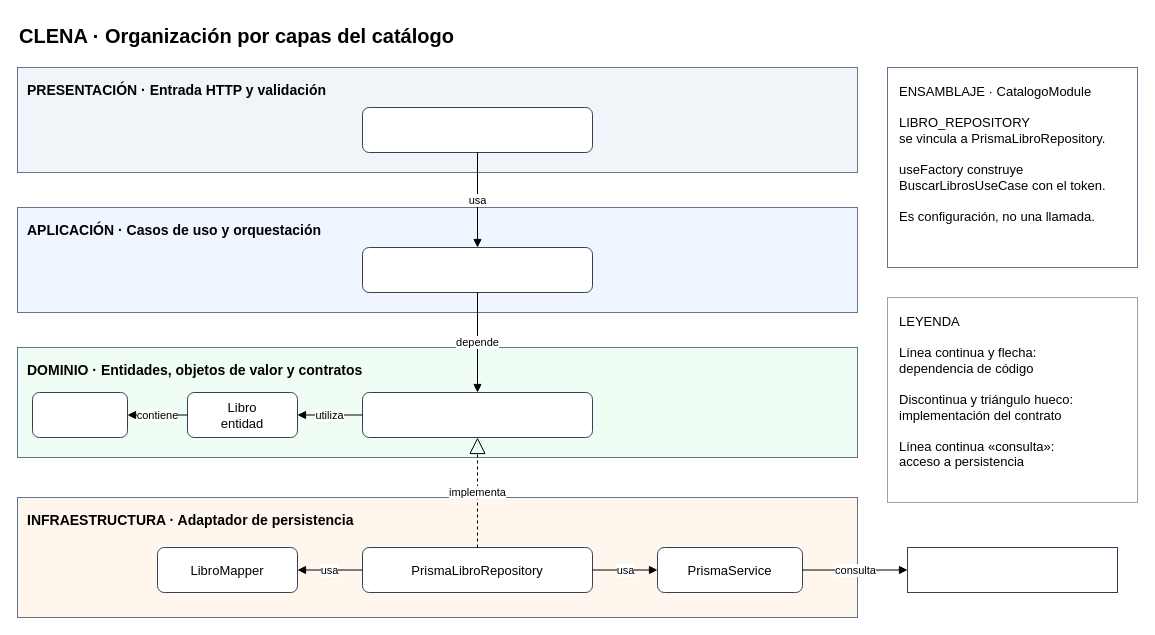
The diagram is 1155 pixels wide and 635 high, and some of its shapes have lost their labels. The shapes that lost their labels are listed below. From the top down, each one's centre as x and y in pixels, then its label:
At point 477,129: "LibrosController BuscarLibrosQueryDto".
At point 477,269: "BuscarLibrosUseCase normalización y paginación".
At point 80,415: "Isbn objeto de valor".
At point 477,415: "LibroRepository «interfaz»".
At point 1012,569: "PostgreSQL pg_trgm · unaccent".
